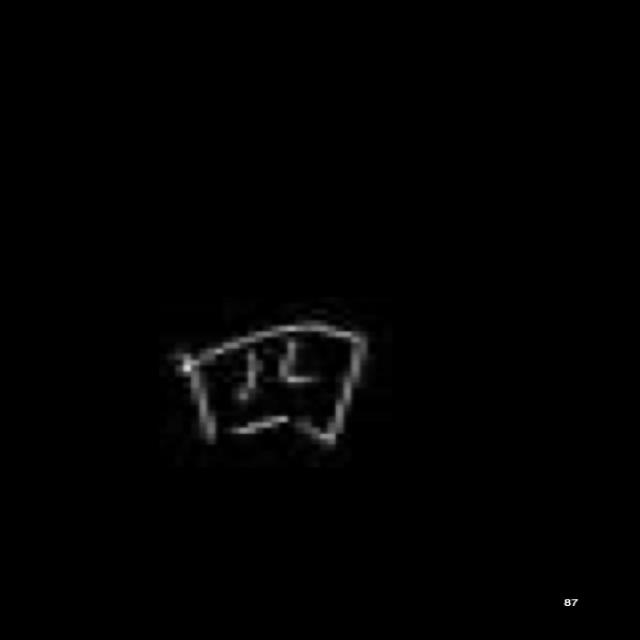4 -four-: (170, 315, 372, 458)
